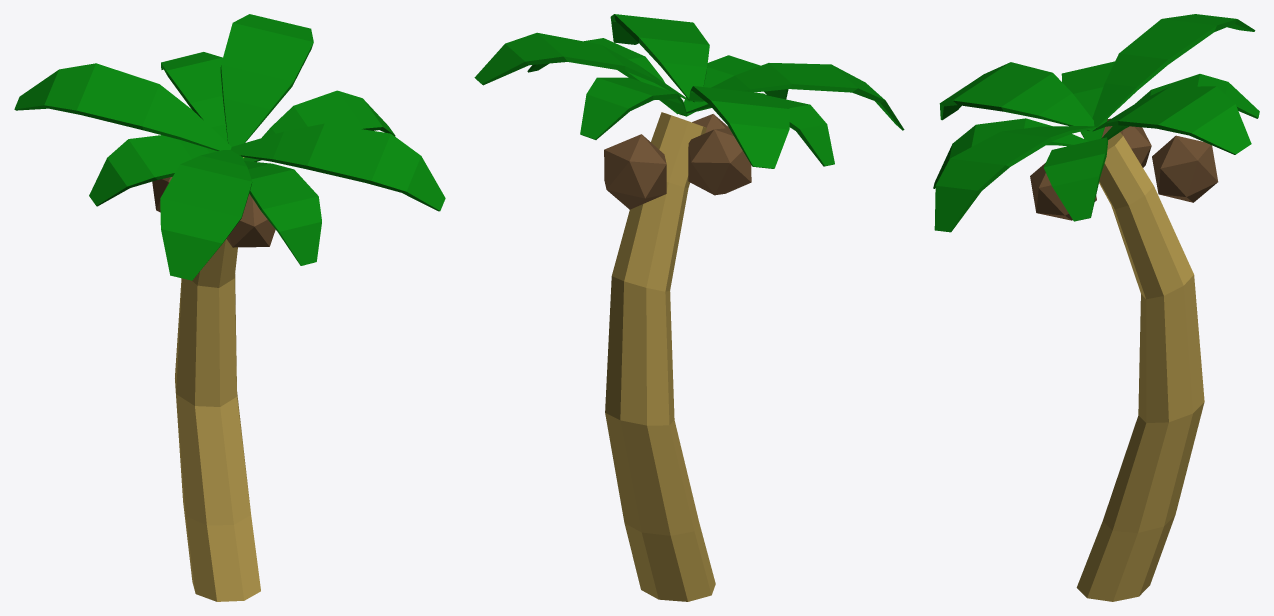
File: palm.fbx
The picture shows the model from 3 angles, left to right: view 1: azimuth 30°, elevation 25°; view 2: azimuth 150°, elevation 25°; view 3: azimuth 270°, elevation 25°; orthographic projection. The views are drawn at different scales.
Visible parts, largest first — view 1: palm; view 2: palm; view 3: palm.
Boxes of the visible parts, x1,y1,x2,y2 form: palm: [14, 14, 445, 601]; palm: [474, 14, 904, 601]; palm: [933, 14, 1259, 601].
Bounding box in the file's own units: 9.74 × 8.89 × 15.89.
